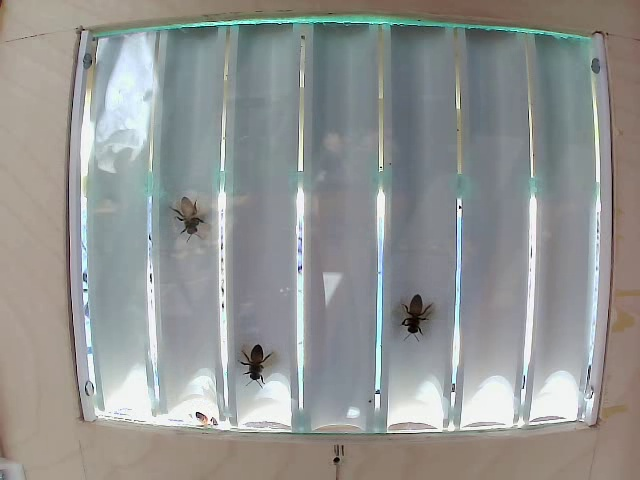bee: (238, 326, 289, 402), (160, 190, 216, 246), (407, 288, 426, 337)
